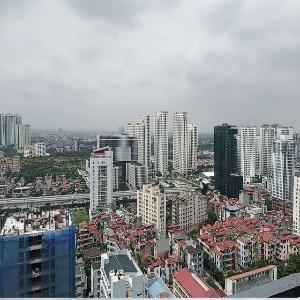drone: (179, 162, 236, 219)
